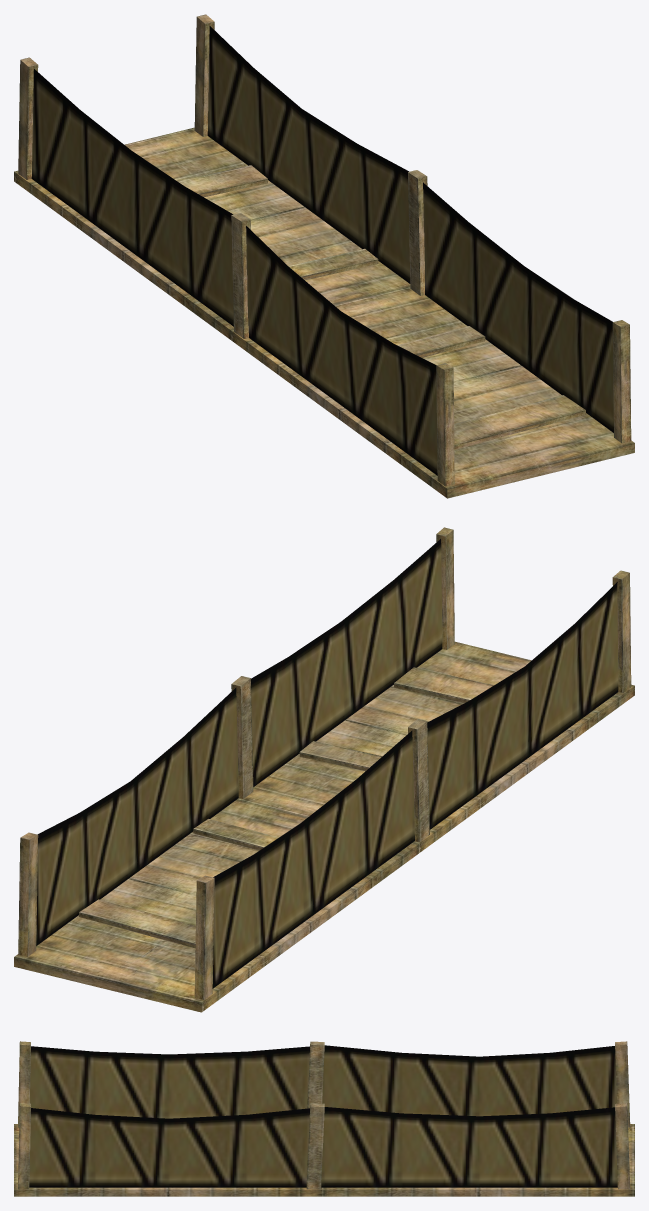
The model's file is pir_m_prp_shp_gangplankRails_weathered.fbx.
The picture shows the model from 3 angles, top to bottom: view 1: azimuth 30°, elevation 25°; view 2: azimuth 150°, elevation 25°; view 3: azimuth 270°, elevation 25°; orthographic projection. The views are drawn at different scales.
Visible parts, largest first — view 1: rope, gangplank, post_right; view 2: rope, gangplank, post_right; view 3: rope, gangplank, post_right.
Part boxes in pixels (x1,y1,x2,y2): rope: (31,26,613,475); gangplank: (14,127,634,498); post_right: (18,14,631,486); rope: (36,539,618,988); gangplank: (14,641,634,1012); post_right: (18,527,631,999); rope: (29,1045,617,1187); gangplank: (14,1124,634,1196); post_right: (18,1041,630,1189).
Size of the model in its own units: 500 by 319 by 2000.
Materials: 2 (2 with a texture image).
